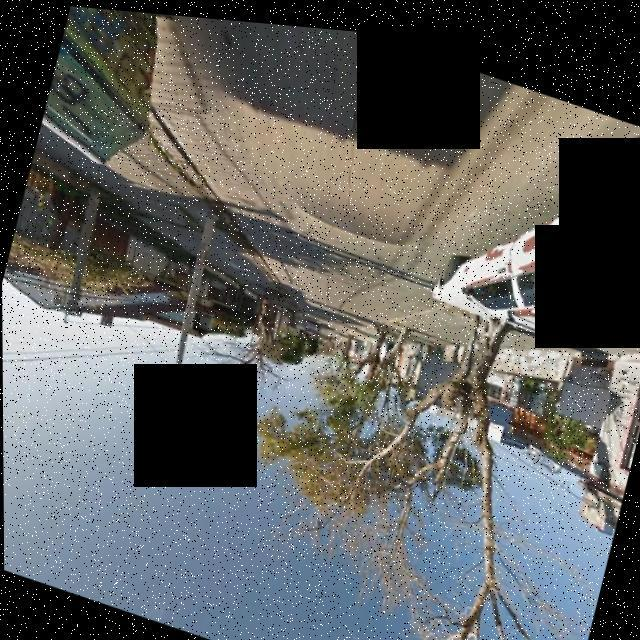bin: (33, 2, 222, 199)
